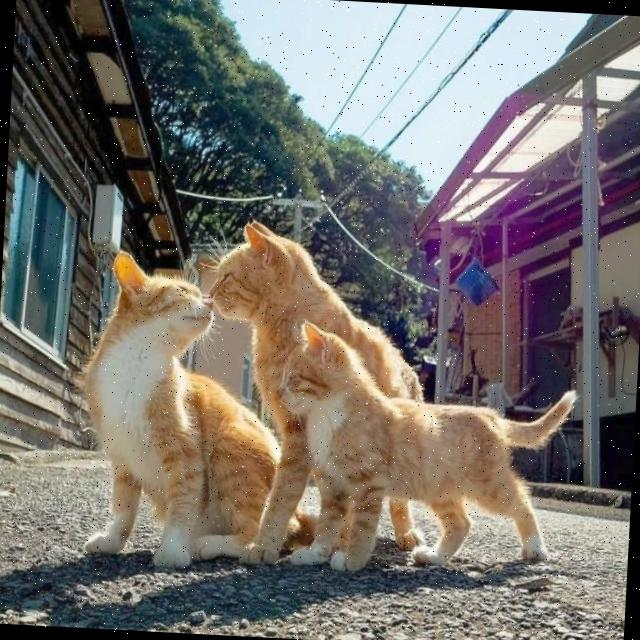cat: (254, 322, 590, 586), (80, 255, 254, 563), (202, 218, 330, 374)
